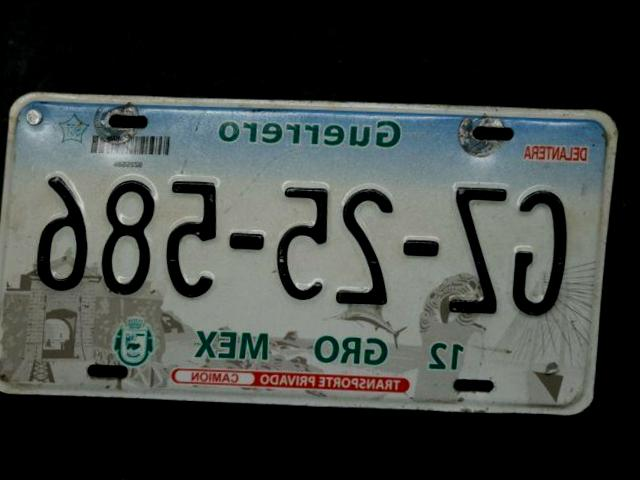License_Plate: (0, 82, 617, 420)
